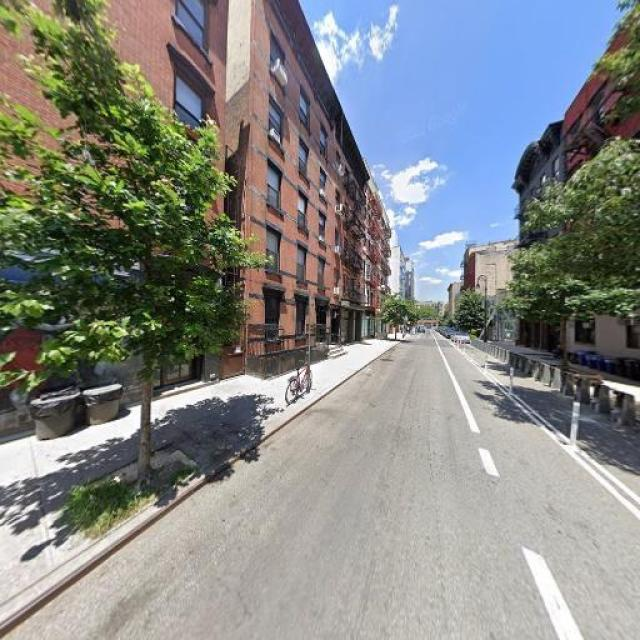Building: (1, 1, 222, 432), (250, 1, 360, 367), (575, 12, 640, 374)
